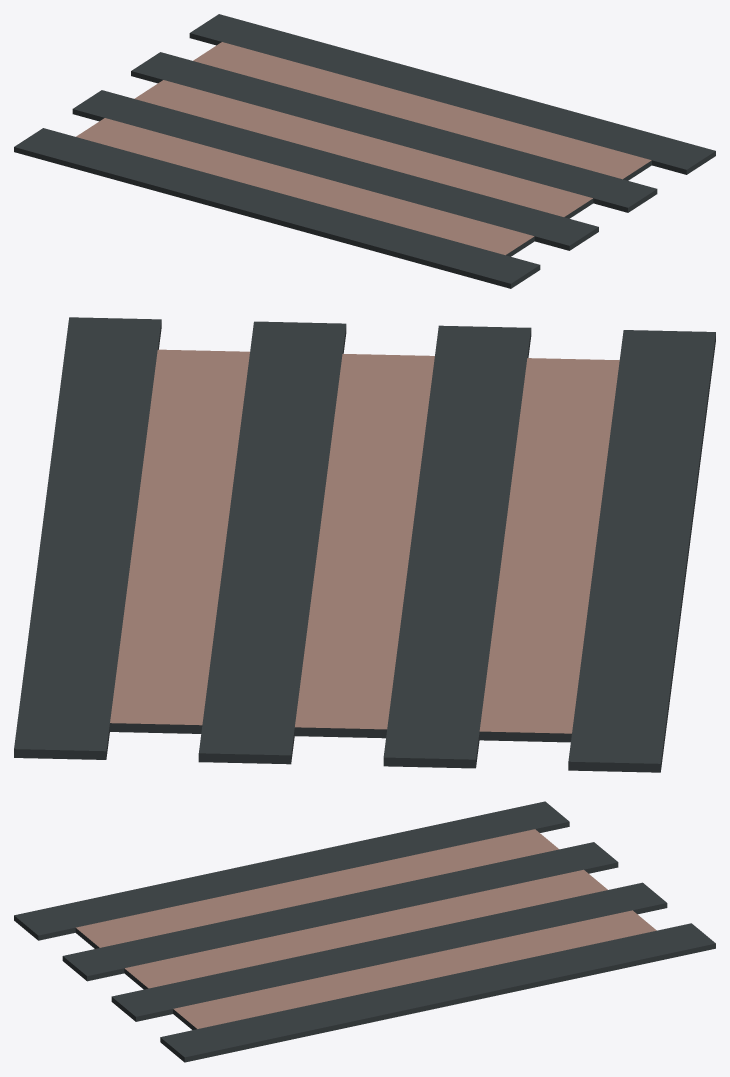
The model's file is carpet_pink.fbx.
The picture shows the model from 3 angles, top to bottom: view 1: azimuth 30°, elevation 25°; view 2: azimuth 150°, elevation 25°; view 3: azimuth 270°, elevation 25°; orthographic projection. The views are drawn at different scales.
Visible parts, largest first — view 1: Plane.002; view 2: Plane.002; view 3: Plane.002.
Part boxes in pixels (x1,y1,x2,y2): Plane.002: (14, 14, 715, 288); Plane.002: (14, 317, 715, 772); Plane.002: (14, 801, 715, 1062).
Bounding box in the file's own units: 755 × 7.07 × 875.
